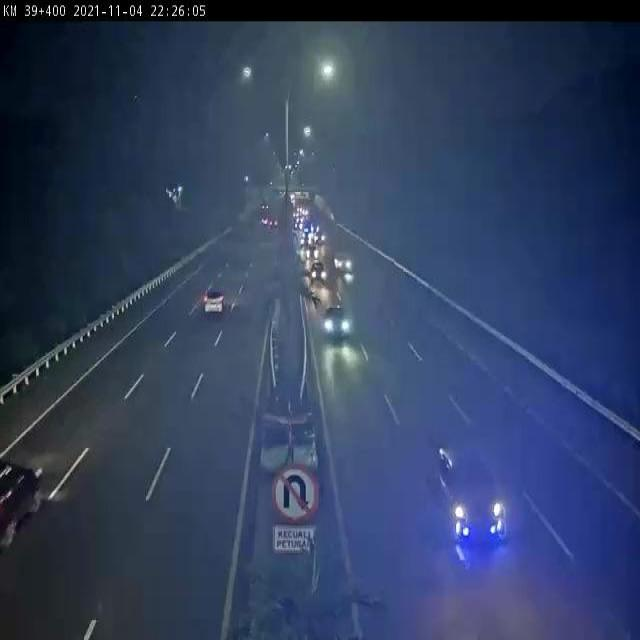car: (428, 436, 522, 576), (0, 443, 55, 556), (195, 276, 235, 323), (323, 298, 356, 354), (308, 256, 324, 289)
